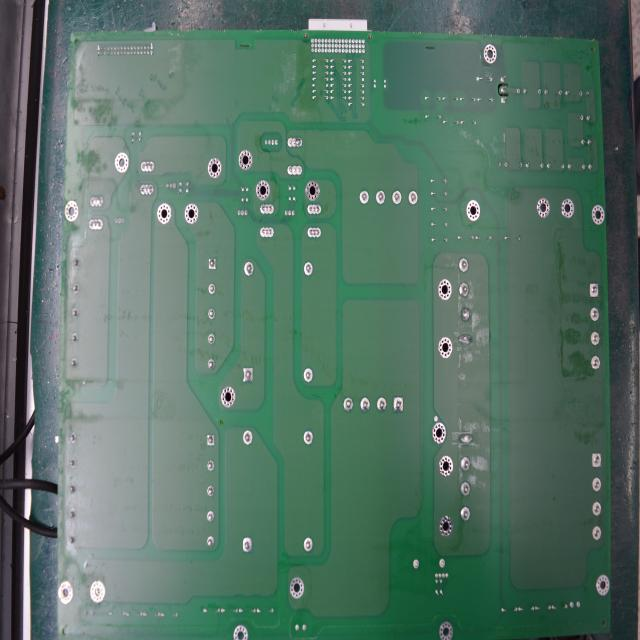slug: (455, 428, 475, 448), (455, 330, 474, 349), (457, 302, 472, 326)
